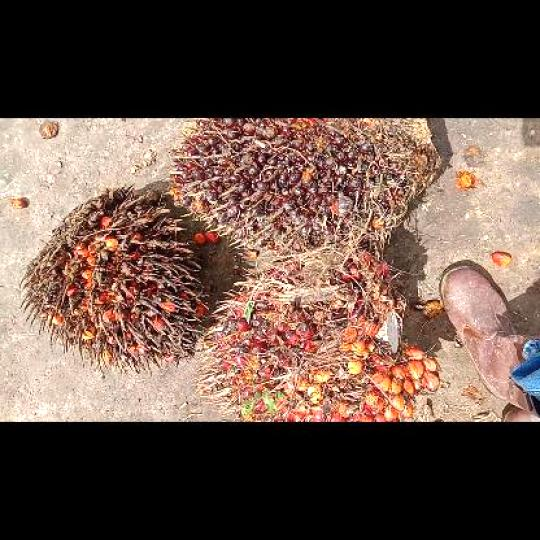kurang masak: (170, 117, 443, 259)
masak: (206, 250, 438, 420)
terlalu masak: (25, 187, 211, 366)
